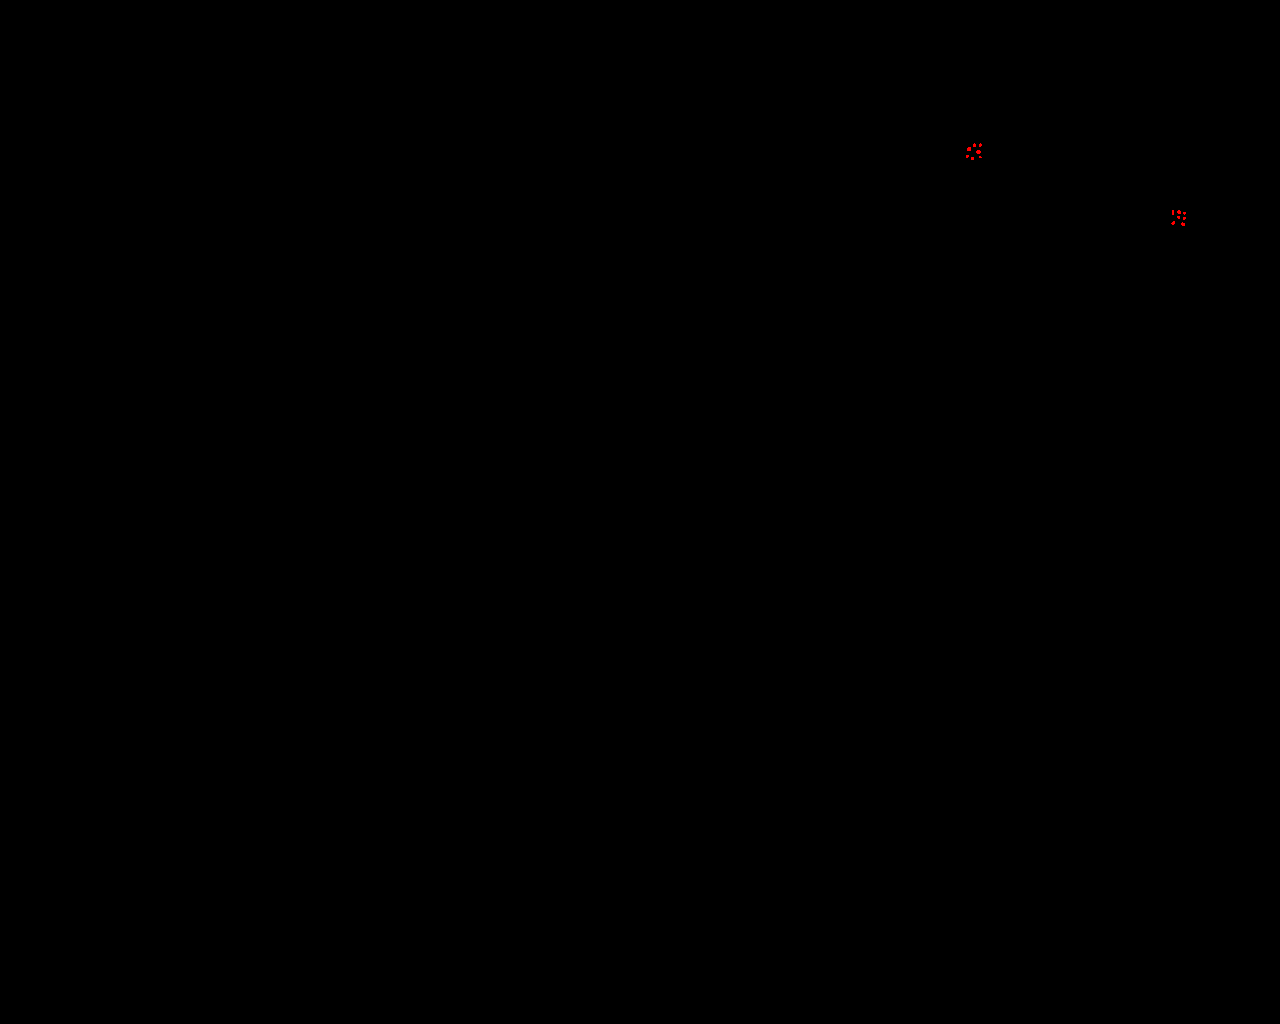Target: (967, 147, 971, 152), (1177, 210, 1181, 214), (1181, 222, 1185, 226), (976, 150, 981, 154), (973, 143, 976, 147), (979, 143, 982, 147), (1171, 222, 1176, 225), (1172, 210, 1174, 215), (965, 155, 969, 158), (971, 157, 974, 160), (1183, 212, 1186, 215), (1177, 216, 1180, 219), (1183, 217, 1186, 220), (979, 156, 982, 158)
